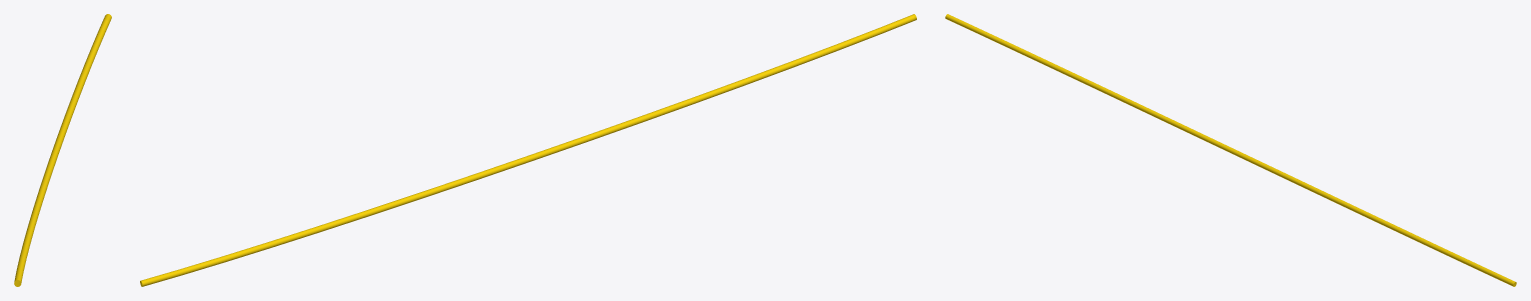
The model's file is Event_420094457_track_27.fbx.
The picture shows the model from 3 angles, left to right: view 1: azimuth 90°, elevation 25°; view 2: azimuth 210°, elevation 25°; view 3: azimuth 330°, elevation 25°; orthographic projection. The views are drawn at different scales.
Visible parts, largest first — view 1: Model; view 2: Model; view 3: Model.
Boxes of the visible parts, x1,y1,x2,y2 form: Model: [14, 14, 111, 286]; Model: [140, 14, 916, 286]; Model: [945, 14, 1516, 286].
Bounding box in the file's own units: 5.22 × 0.8393 × 0.5422.
